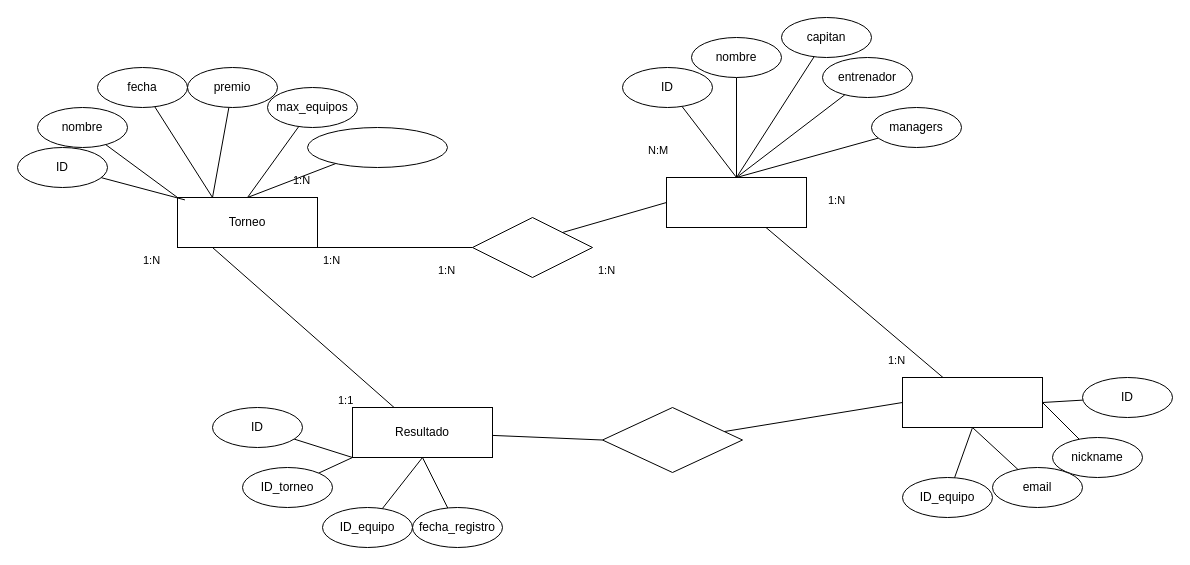
Some shapes in this 1190 by 565 pixel diagram are drawn without their labels. The shapes that lost their labels are listed below. From the top down, each one's box as (x1, y1, x2, y2) in pixels, then its label:
(306, 126, 448, 168): estado(abierto/cerrado)
(666, 176, 806, 228): Equipo
(472, 216, 592, 278): Inscripcion
(902, 376, 1042, 428): Jugador
(602, 406, 742, 472): jugador_mvp
